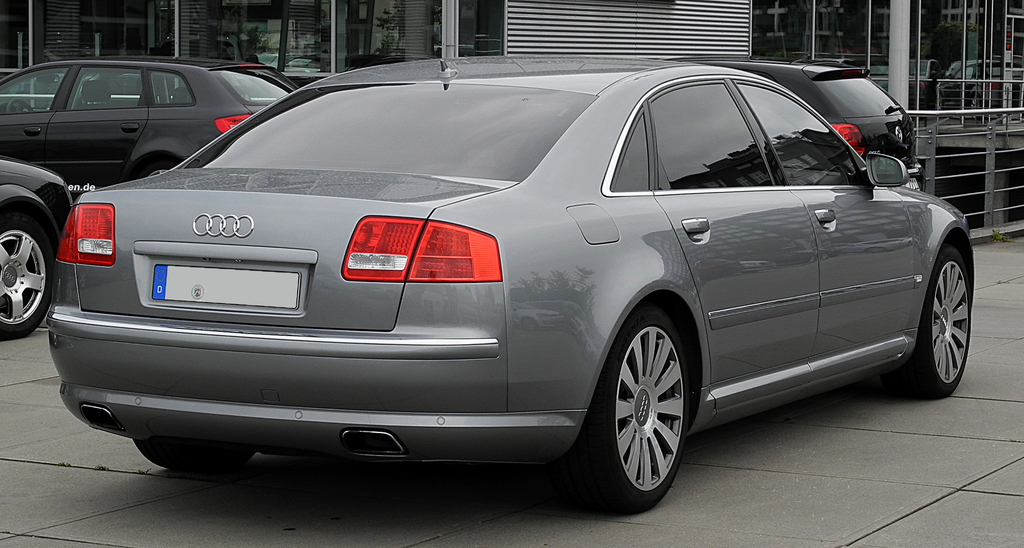Car: (0, 55, 986, 502), (3, 57, 292, 204), (692, 55, 917, 195), (0, 157, 80, 343)
